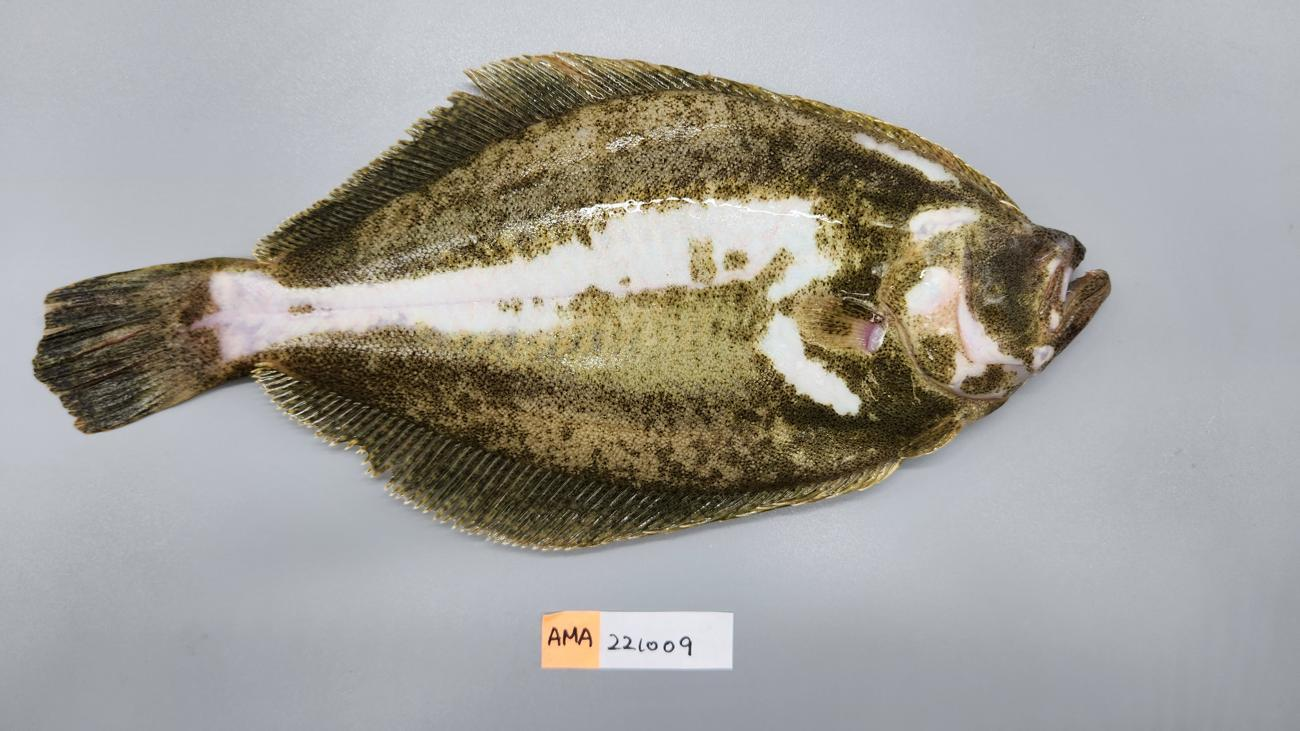MAFAH: (315, 402, 454, 492)
MAOUY: (33, 52, 1111, 552)
